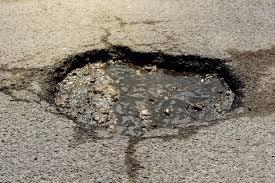pothole: (45, 47, 244, 140)
